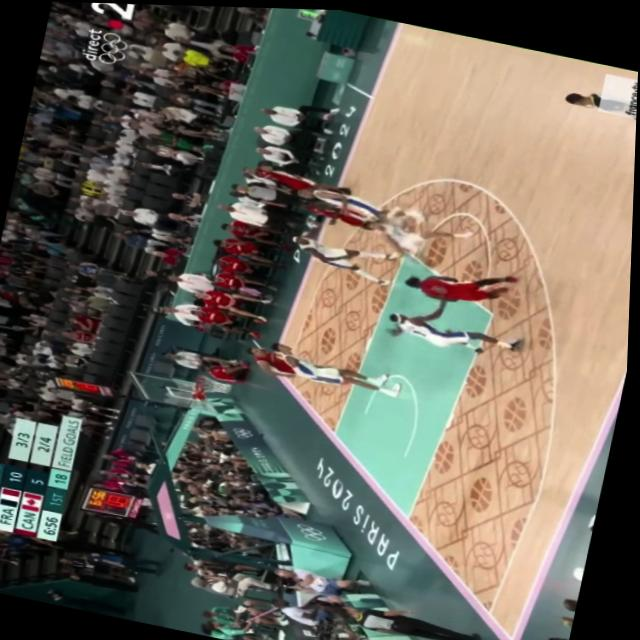ball_handler: (410, 248, 524, 312)
